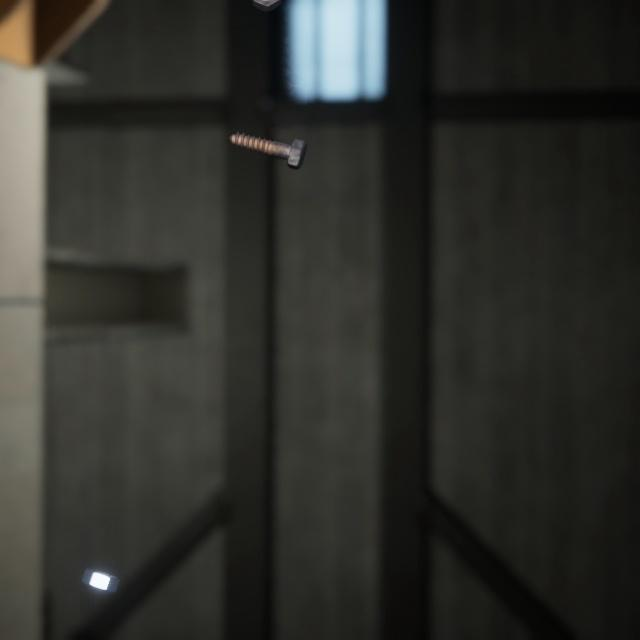bolt: (224, 113, 310, 160)
nut: (77, 541, 123, 574)
